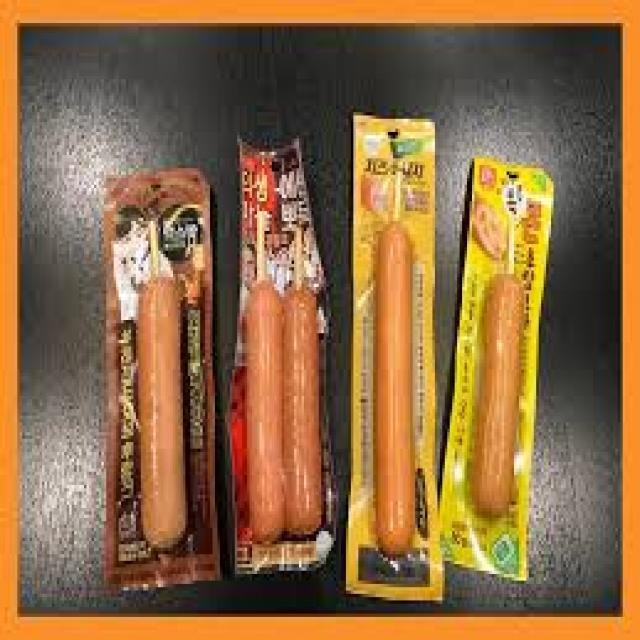sausage: (343, 195, 440, 587), (106, 268, 213, 576), (235, 264, 331, 567), (462, 260, 533, 548)
